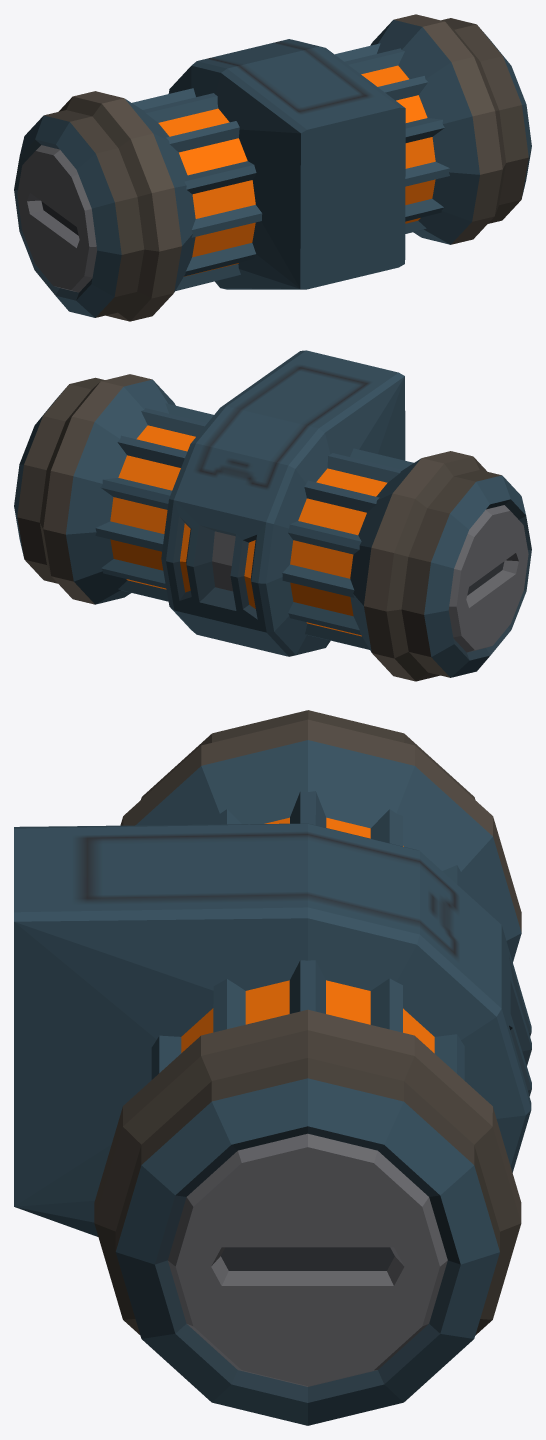
Rendered from SM_Mech_Back_01_Battery_01.fbx.
3 renders of one model, top to bottom at view 1: azimuth 30°, elevation 25°; view 2: azimuth 150°, elevation 25°; view 3: azimuth 270°, elevation 25°, orthographic. The views are drawn at different scales.
Parts seen in each view (by area): view 1: SM_Mech_Back_01_Battery_01; view 2: SM_Mech_Back_01_Battery_01; view 3: SM_Mech_Back_01_Battery_01.
Part boxes in pixels (x1,y1,x2,y2): SM_Mech_Back_01_Battery_01: [14, 14, 531, 321]; SM_Mech_Back_01_Battery_01: [14, 350, 531, 681]; SM_Mech_Back_01_Battery_01: [14, 710, 531, 1425].
Bounding box in the file's own units: 123 × 59.3 × 68.52.
